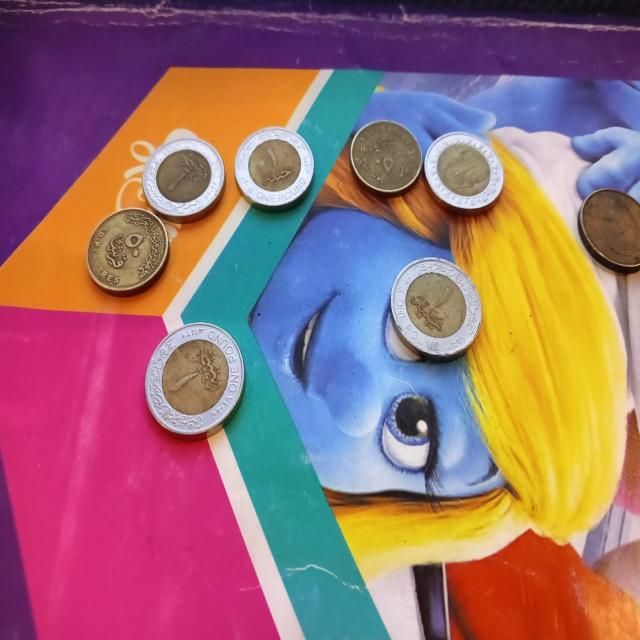Half Pound: (78, 197, 171, 302), (342, 107, 425, 211), (572, 182, 640, 278)
One Pound: (138, 313, 254, 449), (384, 255, 494, 368), (422, 120, 506, 229), (235, 121, 317, 218), (140, 128, 226, 218)
